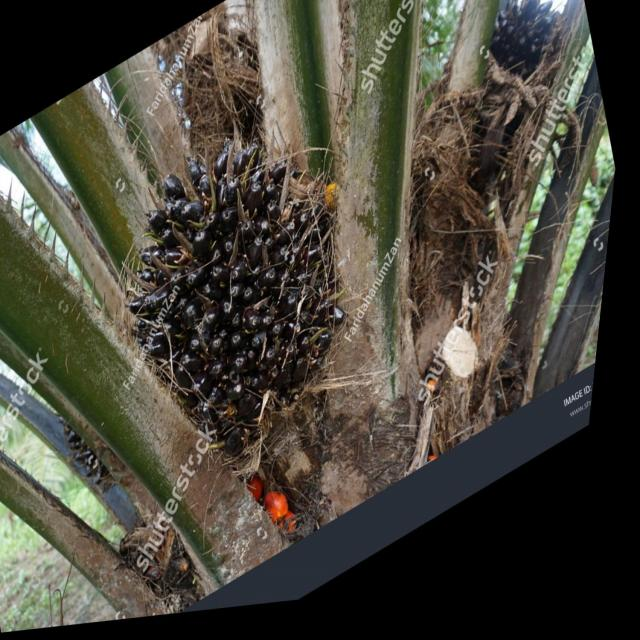Unripe: (89, 89, 394, 512), (476, 0, 578, 115)
